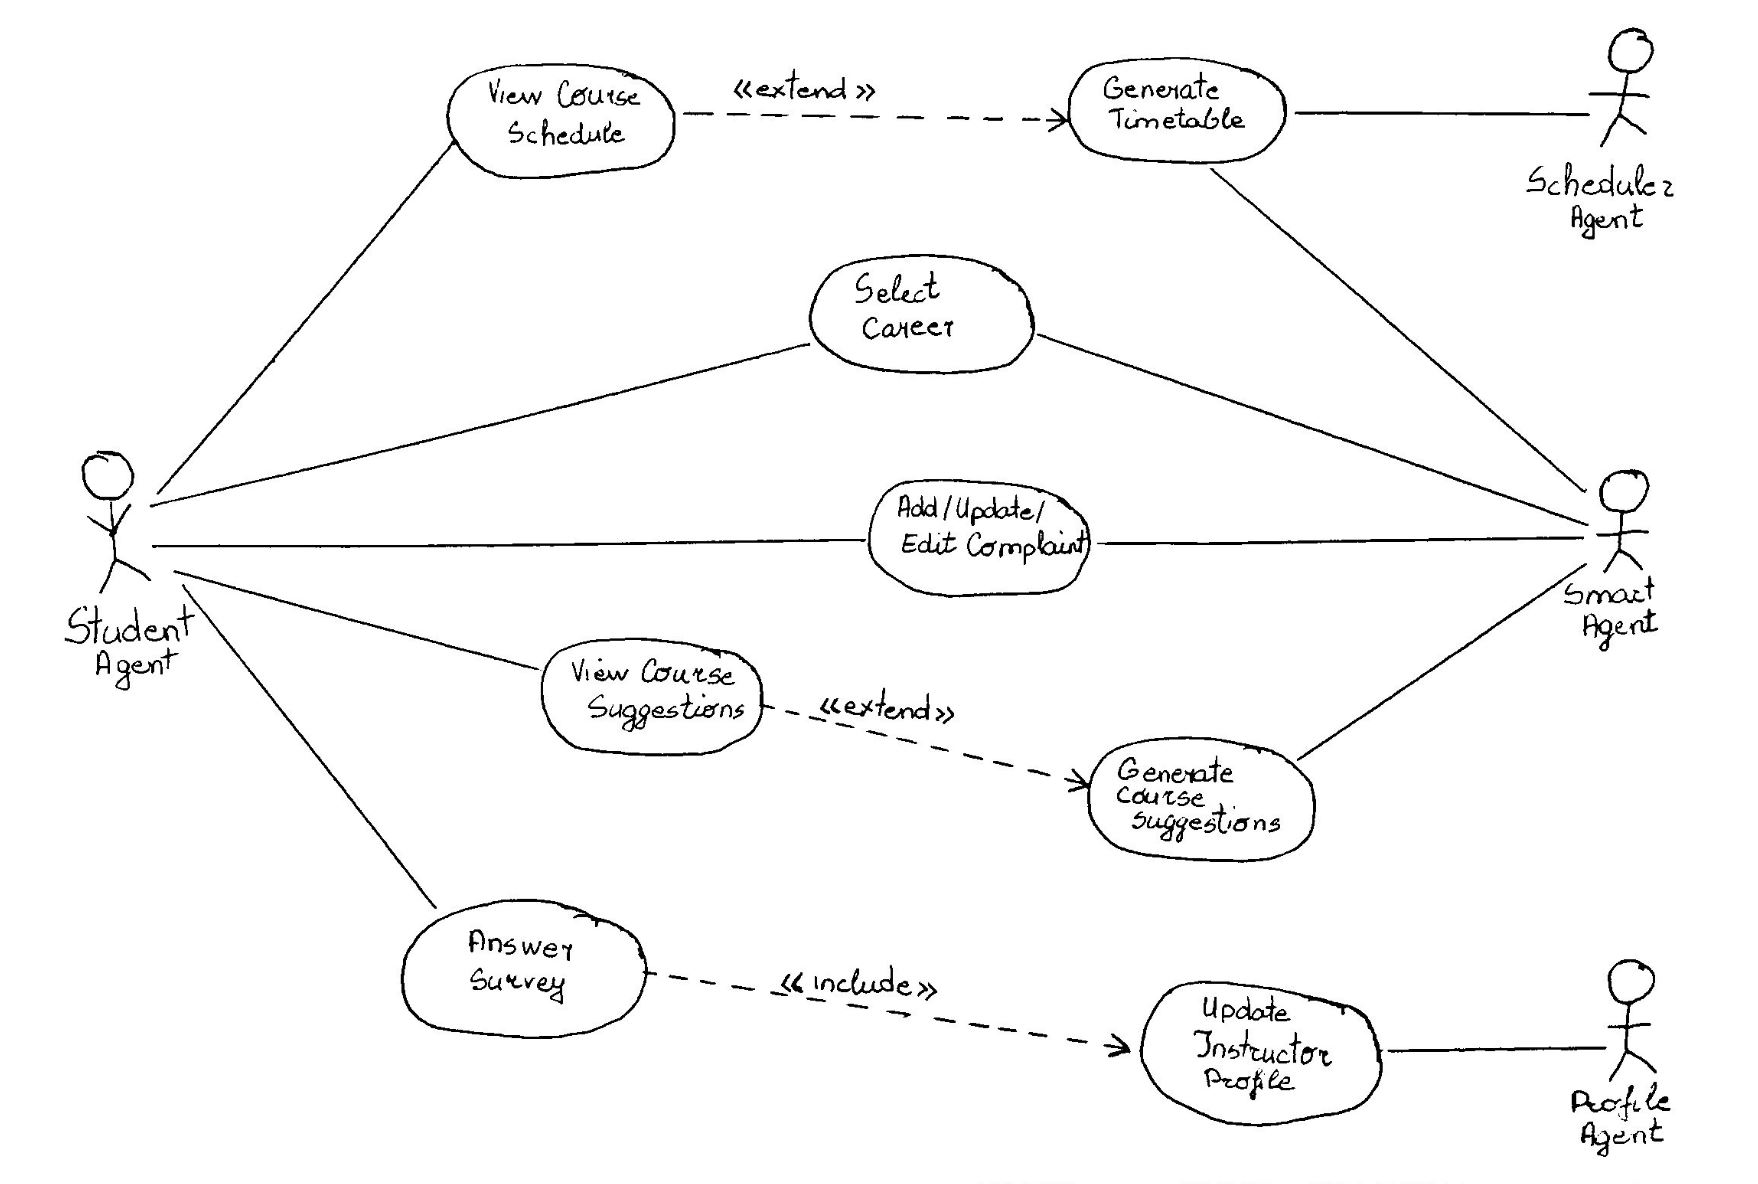actor: (75, 447, 157, 595), (1602, 950, 1670, 1085), (1589, 29, 1658, 153), (1593, 456, 1658, 587)
association: (1210, 163, 1592, 496), (1034, 328, 1589, 531), (151, 338, 807, 509), (160, 137, 452, 499), (181, 583, 436, 913), (1302, 558, 1593, 766), (647, 963, 1136, 1066), (166, 564, 540, 675), (765, 702, 1091, 802), (682, 92, 1069, 151), (155, 527, 869, 555), (1098, 523, 1590, 558), (1286, 94, 1596, 137), (1386, 1031, 1607, 1066)
text: (1106, 757, 1290, 843), (1187, 991, 1331, 1099), (888, 492, 1082, 566), (564, 653, 749, 729), (1522, 159, 1677, 240), (61, 599, 197, 690), (482, 78, 641, 155), (1090, 70, 1251, 136), (464, 928, 582, 1011), (851, 274, 973, 351), (1572, 1088, 1691, 1158), (1561, 581, 1666, 651), (777, 963, 943, 1006), (726, 63, 880, 108), (808, 691, 969, 725)
use_case: (1140, 978, 1383, 1128), (398, 897, 645, 1039), (1084, 733, 1318, 866), (808, 252, 1036, 377), (538, 636, 766, 758), (868, 477, 1094, 599), (446, 62, 675, 180), (1066, 58, 1288, 166)
